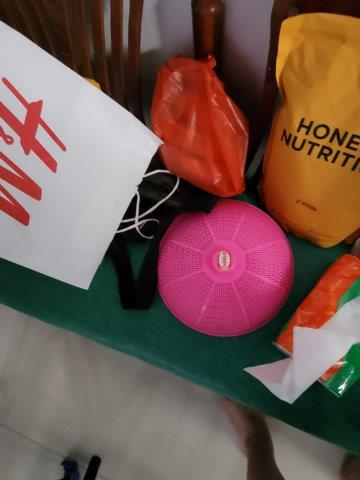plastik: (151, 60, 252, 197)
